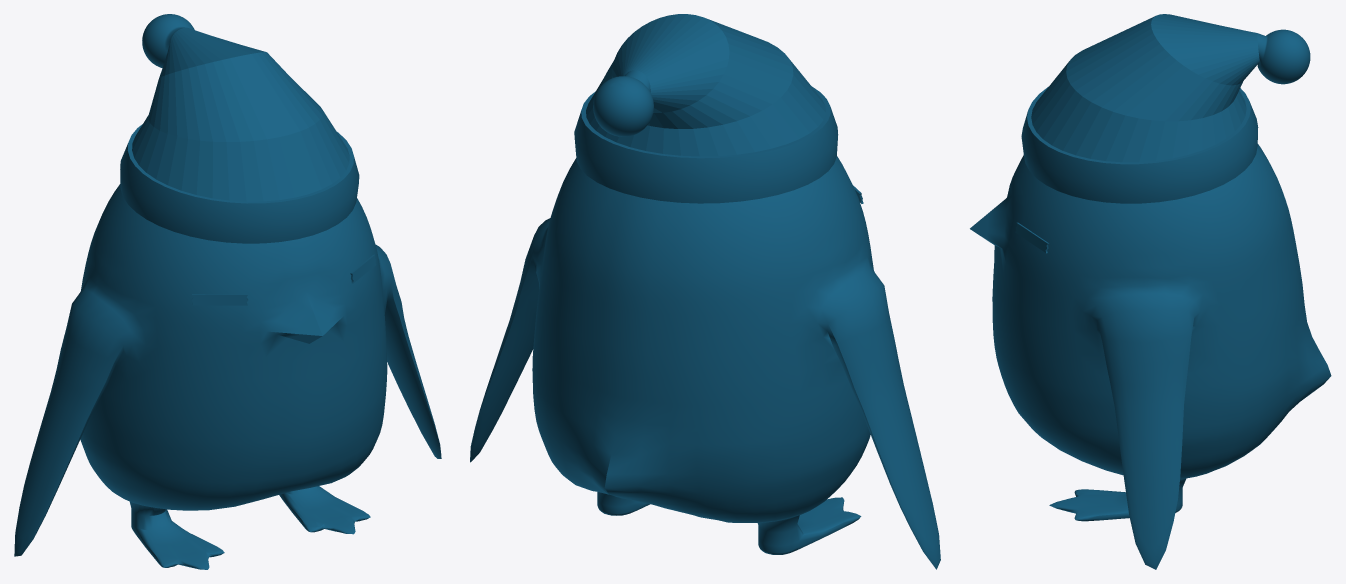
File: penguin_blue_idle_42f.fbx
The picture shows the model from 3 angles, left to right: view 1: azimuth 30°, elevation 25°; view 2: azimuth 150°, elevation 25°; view 3: azimuth 270°, elevation 25°; orthographic projection. The views are drawn at different scales.
Parts seen in each view (by area): view 1: ppp_42, bousi, ai; view 2: ppp_42, bousi; view 3: ppp_42, bousi.
Boxes of the visible parts, bbox=[...] form: ppp_42: bbox=[14, 184, 441, 569]; bousi: bbox=[120, 14, 359, 243]; ai: bbox=[192, 254, 376, 305]; ppp_42: bbox=[470, 156, 940, 569]; bousi: bbox=[574, 14, 838, 203]; ppp_42: bbox=[970, 144, 1331, 569]; bousi: bbox=[1021, 14, 1310, 203].
Bounding box in the file's own units: 19.42 × 20.12 × 14.56.
1 material, 1 textured.
